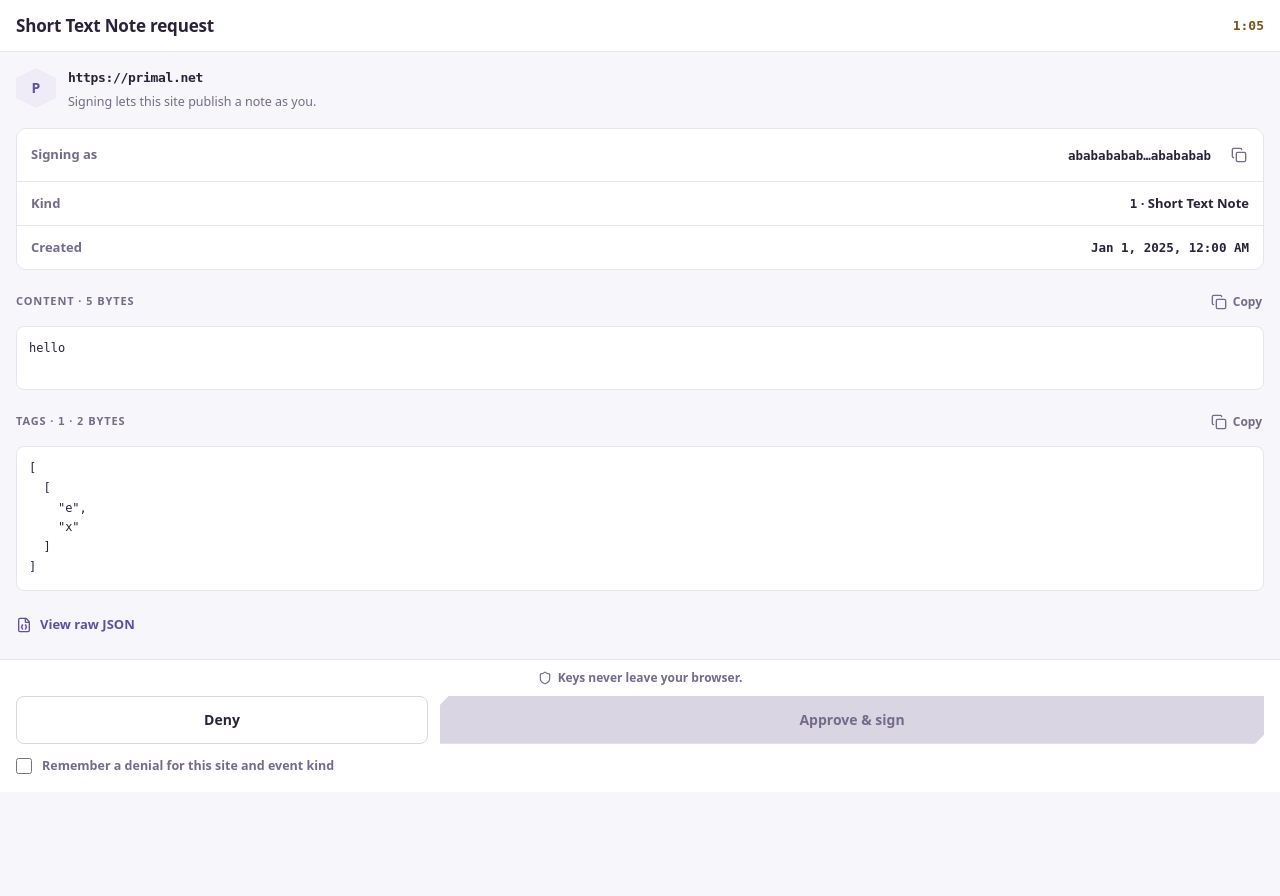
Test case: EventDetailView payload sections › reveals the raw envelope with the signing pubkey and event id
Click the button "View raw JSON" at (75, 625), box left=16, top=607, right=135, bottom=643
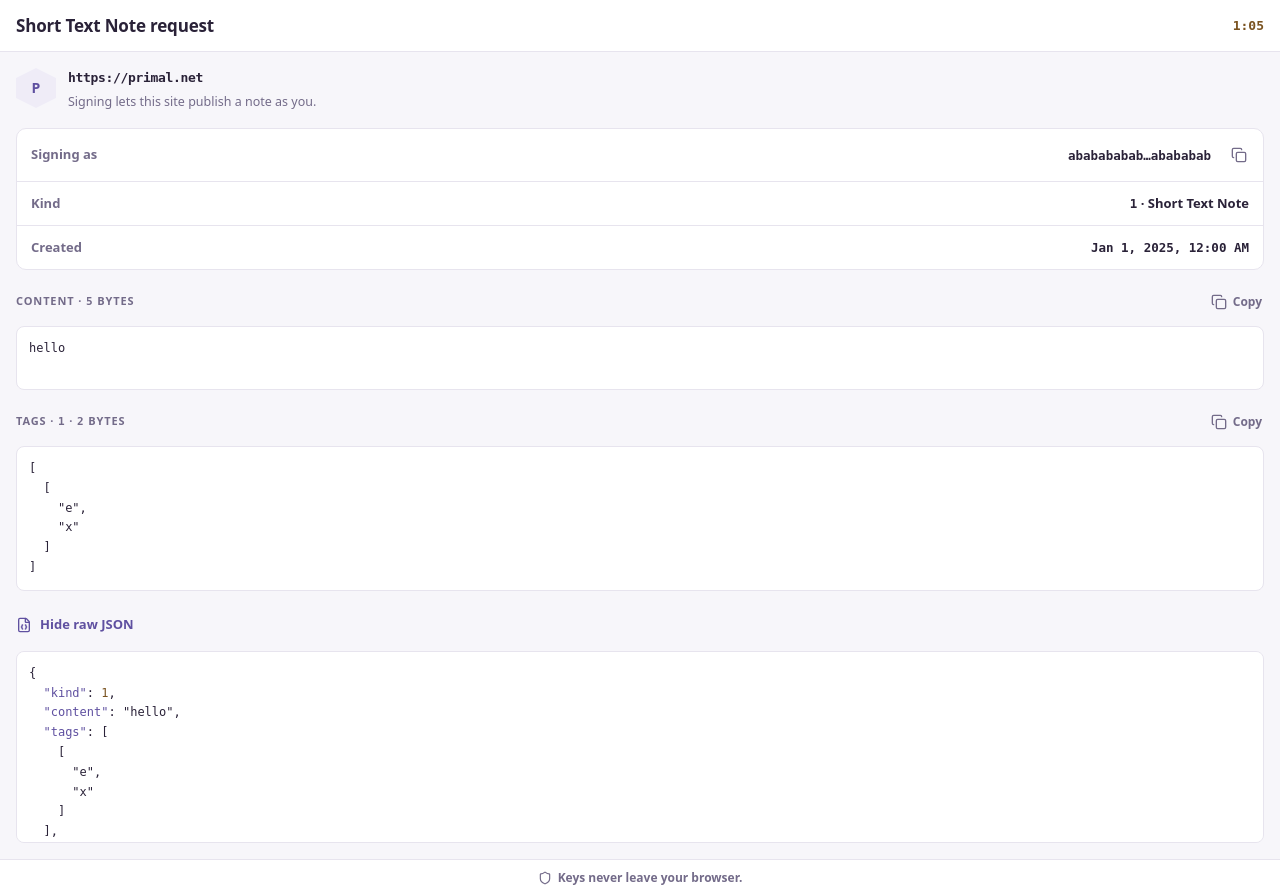
Now the text "\"kind\"" is shown, box left=44, top=686, right=87, bottom=700
Now the button "Hide raw JSON" is expanded
Click the button "Hide raw JSON" at (75, 625), box left=16, top=607, right=134, bottom=643
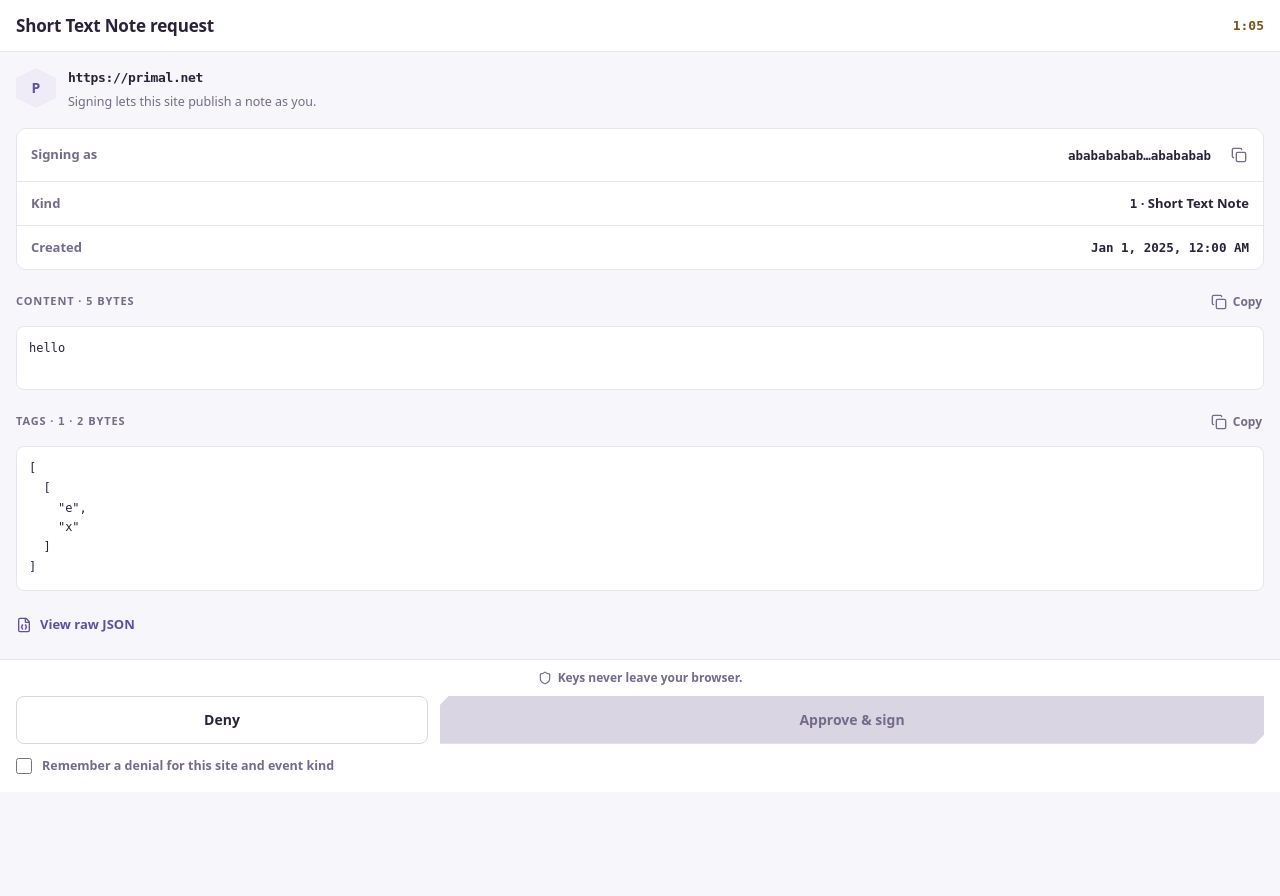
Now the element with test id "approval-raw-json" is gone
